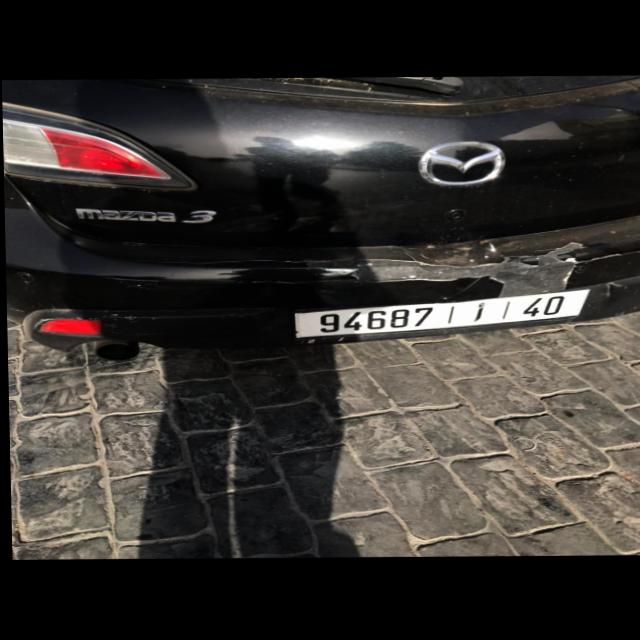License-Plate: (295, 290, 587, 338)
